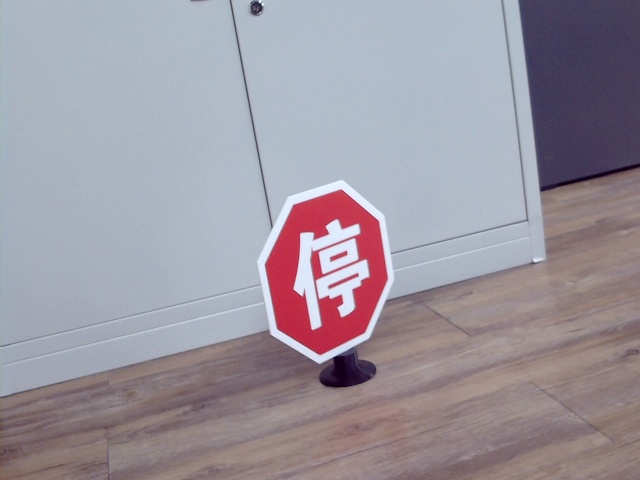stop: (290, 216, 370, 329)
